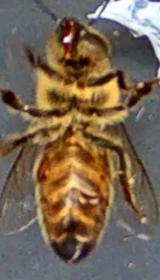varroa_mite: (30, 145, 66, 189)
